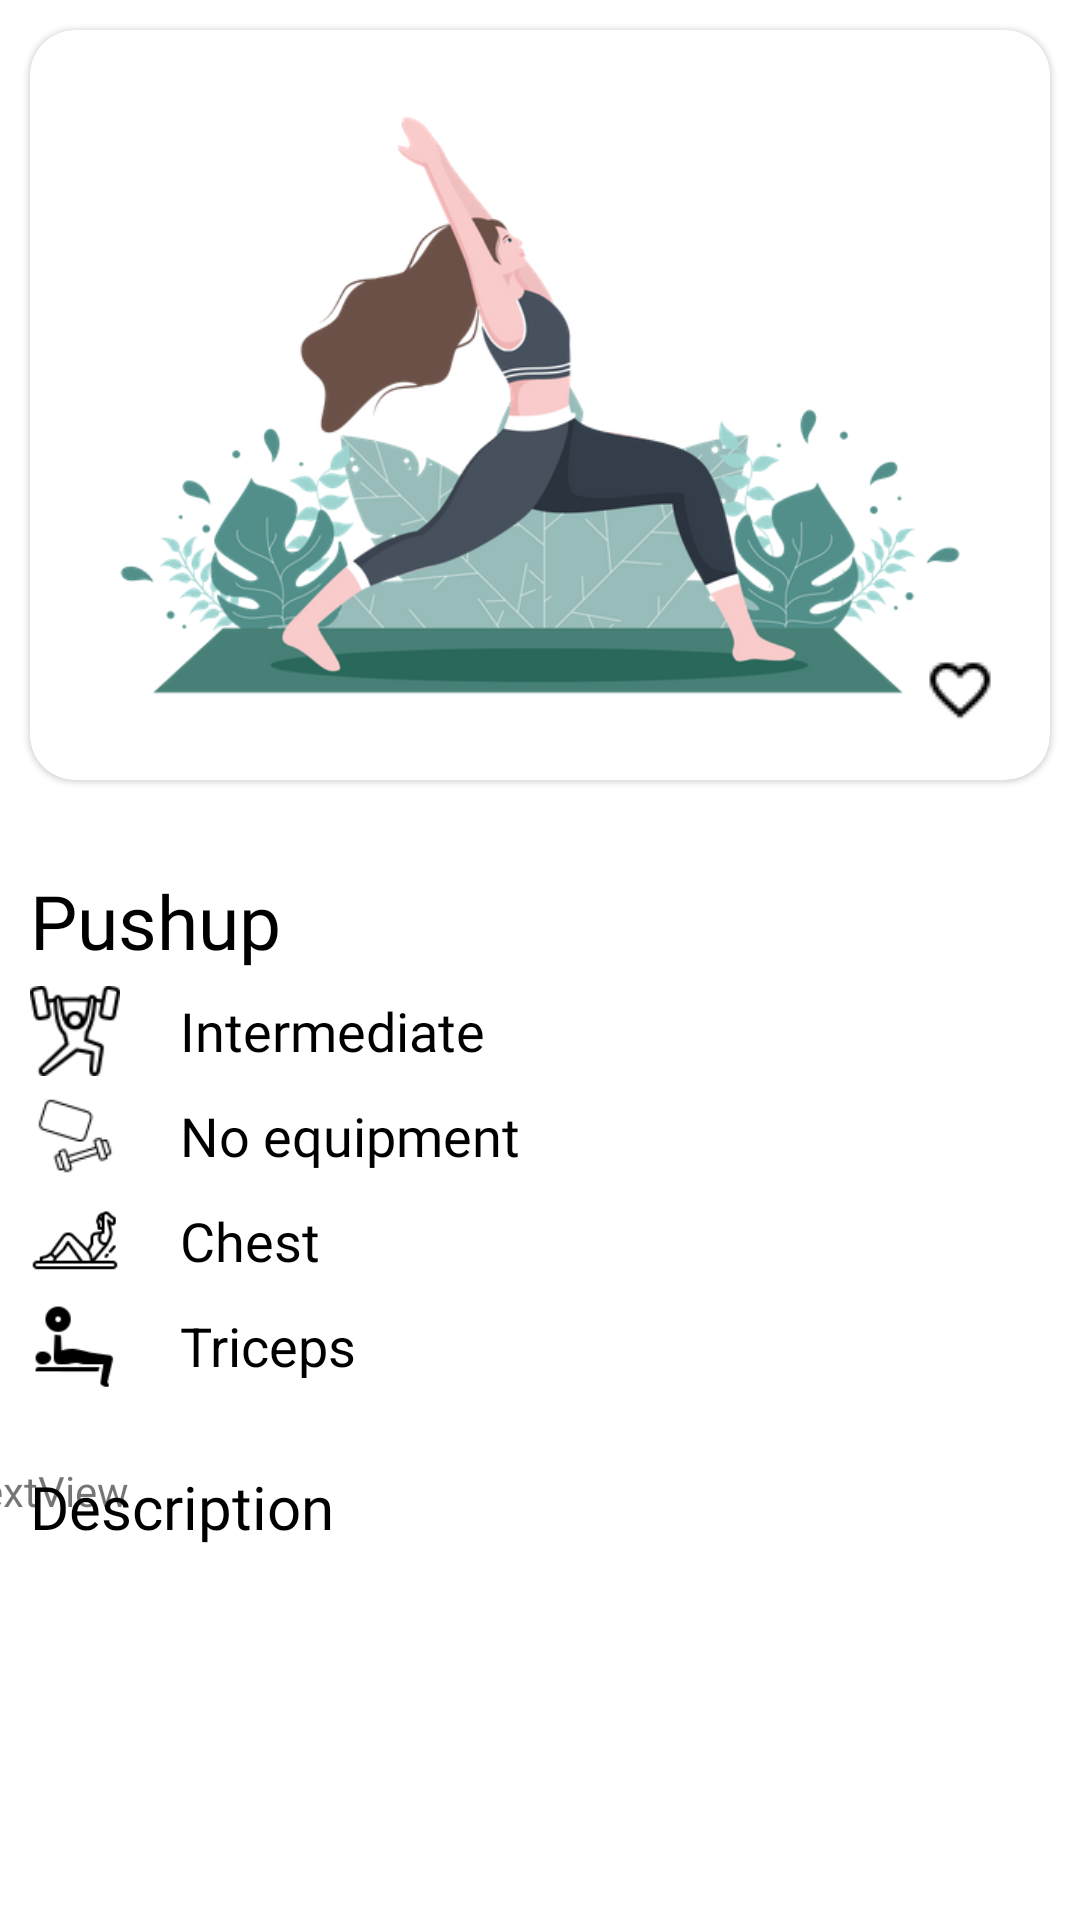

Named icons in this screenshot (1080w x 1920h) and their bounding boxes, (x1, y1, x2, y2):
difficulty: (30, 986, 120, 1076)
heart: (929, 662, 991, 718)
